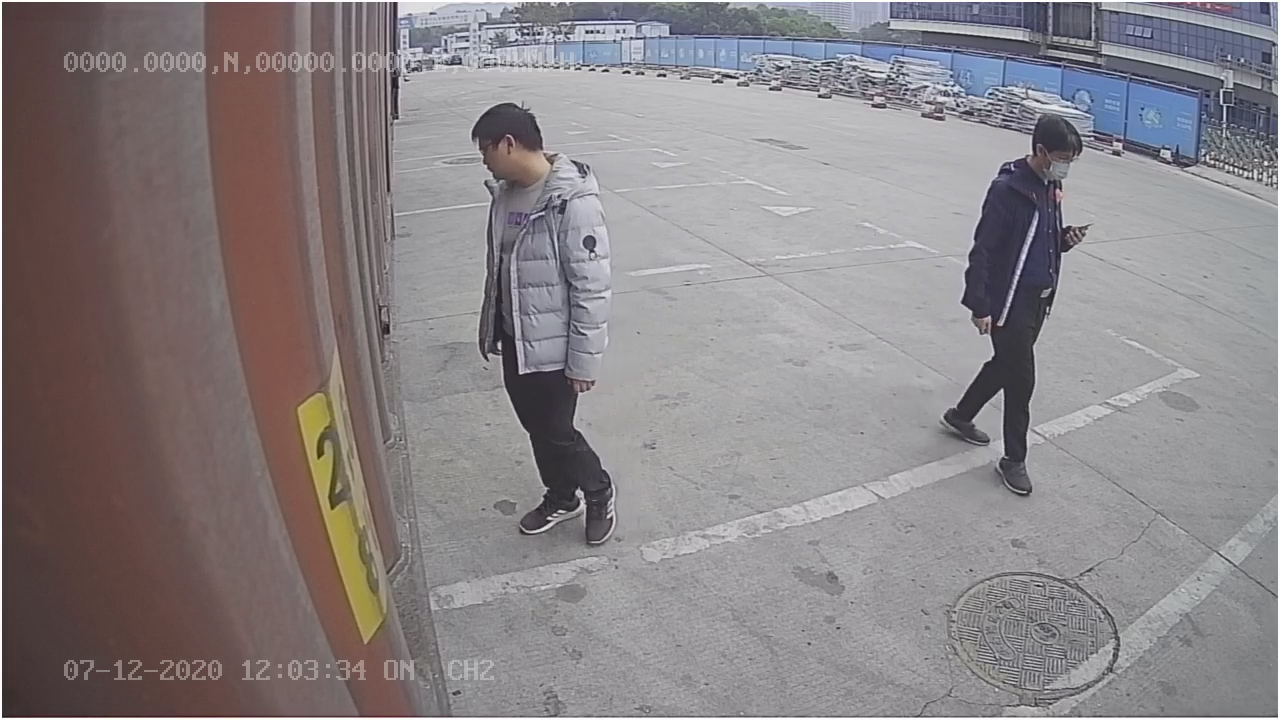person: (465, 95, 629, 543), (941, 109, 1089, 495)
